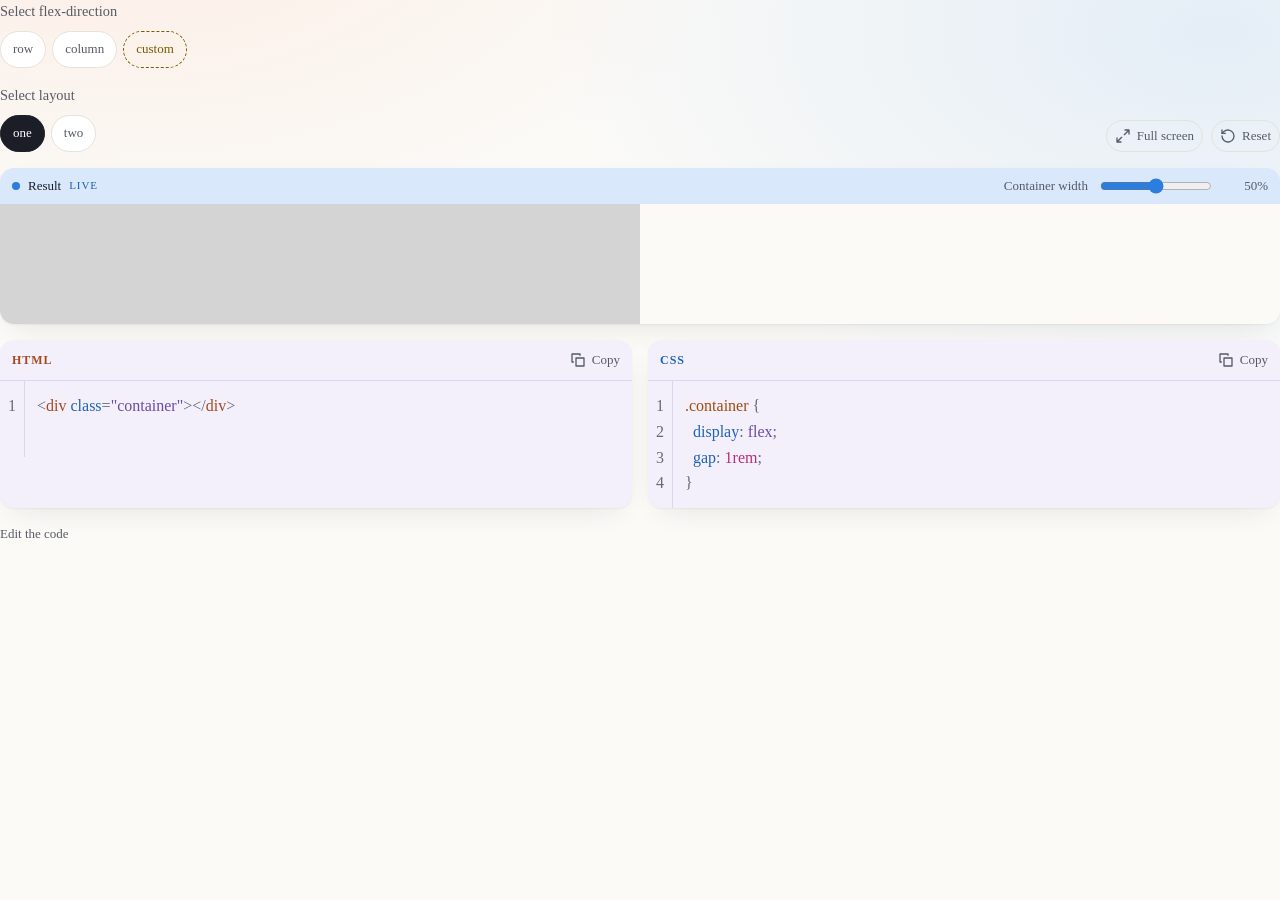
Playground selectors › swaps the whole snippet for a preset
Expected: the radio button labelled "one" is checked, [0,115,45,152]
Click the radio button labelled "two" at (74,133), box [51,115,96,152]
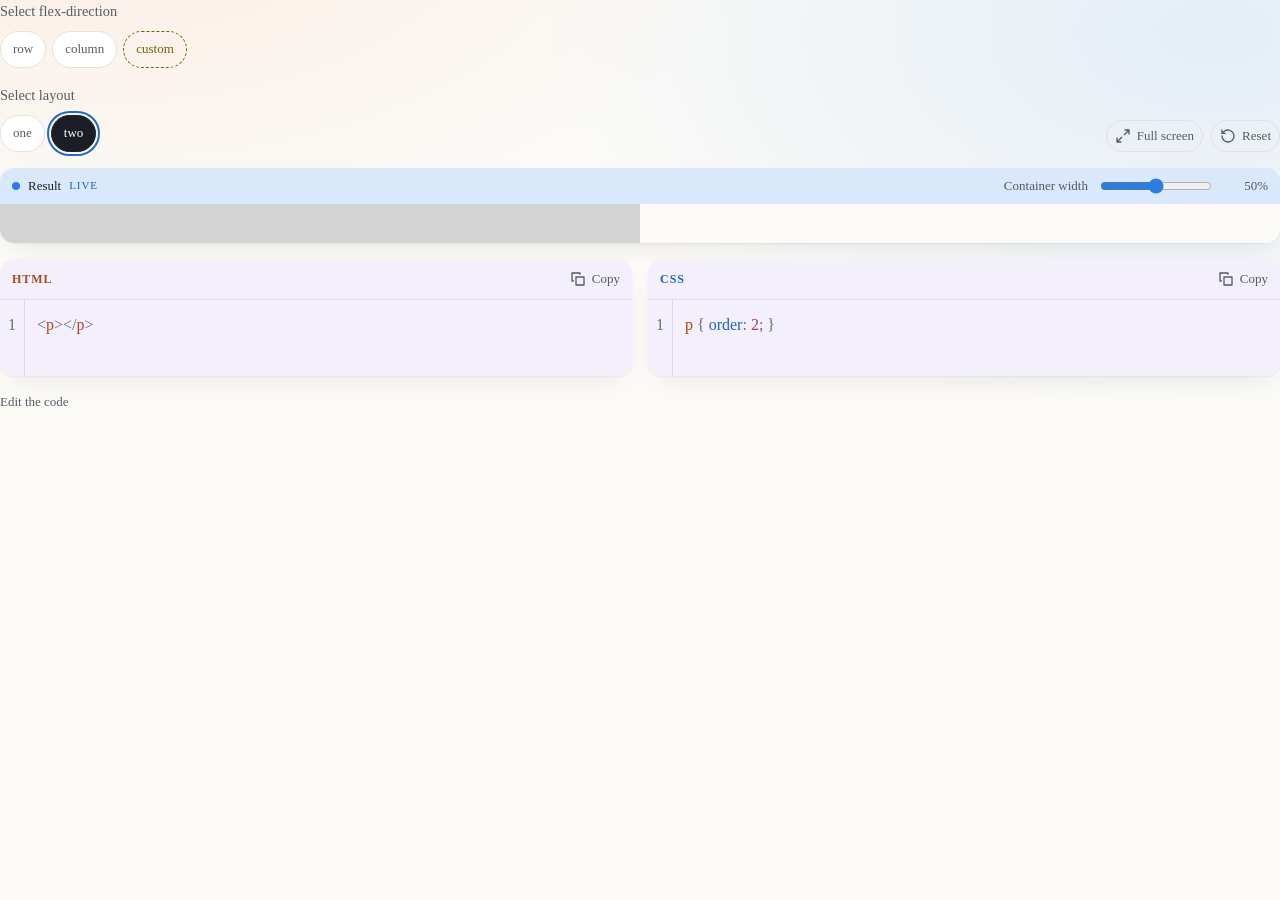
Result: the text box named "CSS editor" holds "p { order: 2; }" at [673,300,1279,376]
Result: the text box named "HTML editor" holds "<p></p>" at [25,300,632,376]
